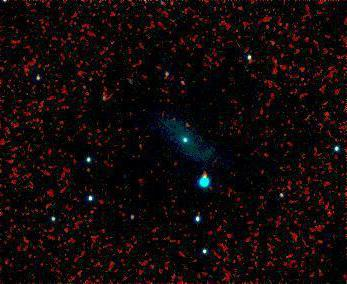star: (169, 109, 199, 139)
